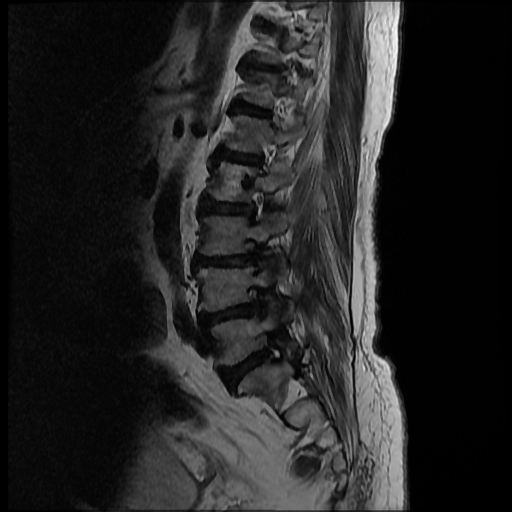LFS0: (233, 182, 272, 230)
LFS3: (238, 281, 277, 325)
